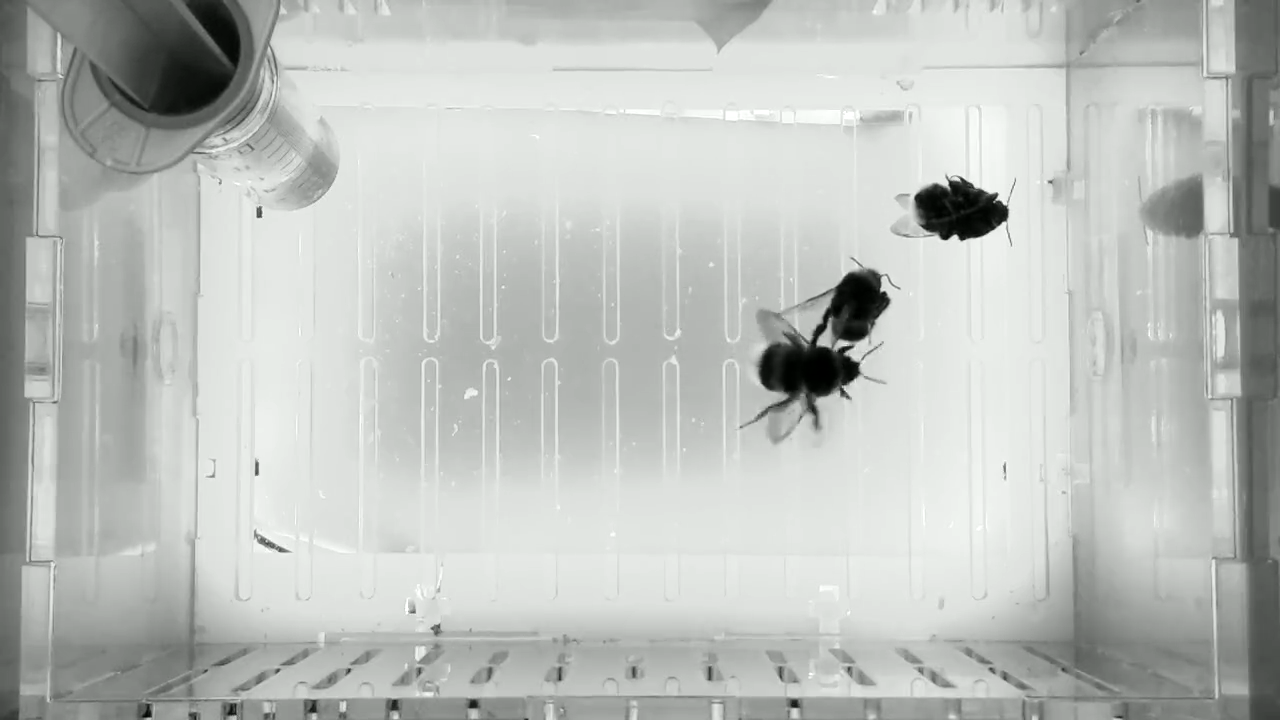bee: (742, 306, 890, 449), (770, 253, 905, 346), (886, 169, 1021, 253)
feeder: (197, 58, 342, 216)
